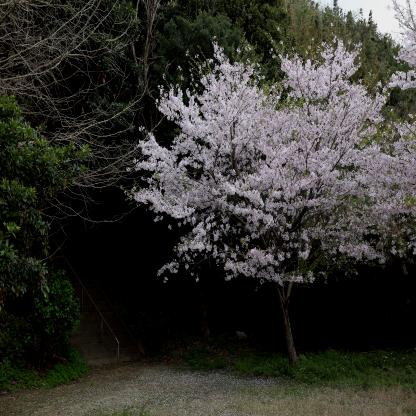Someiyoshino: (127, 1, 416, 289)
